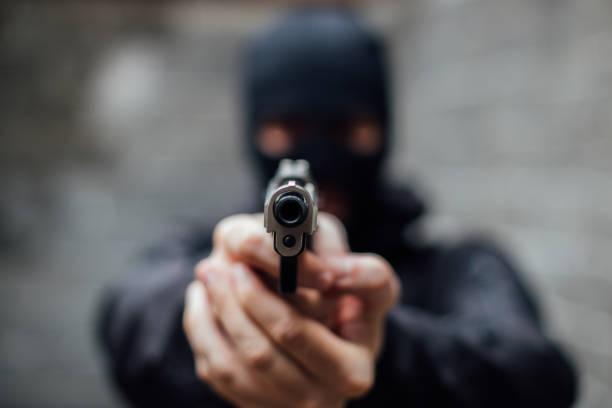weapon: (254, 155, 323, 301)
